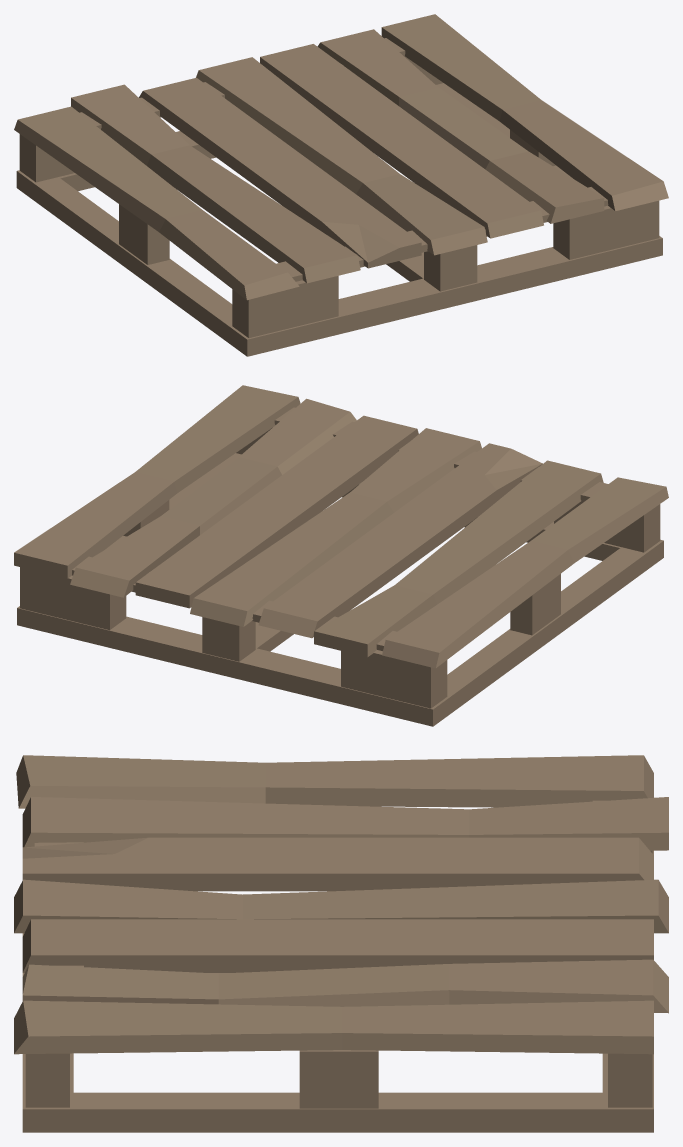
File: Pallet.obj
The picture shows the model from 3 angles, top to bottom: view 1: azimuth 30°, elevation 25°; view 2: azimuth 150°, elevation 25°; view 3: azimuth 270°, elevation 25°; orthographic projection. The views are drawn at different scales.
Bounding box in the file's own units: 1.2 × 0.1955 × 1.18.
1 material, 1 textured.
